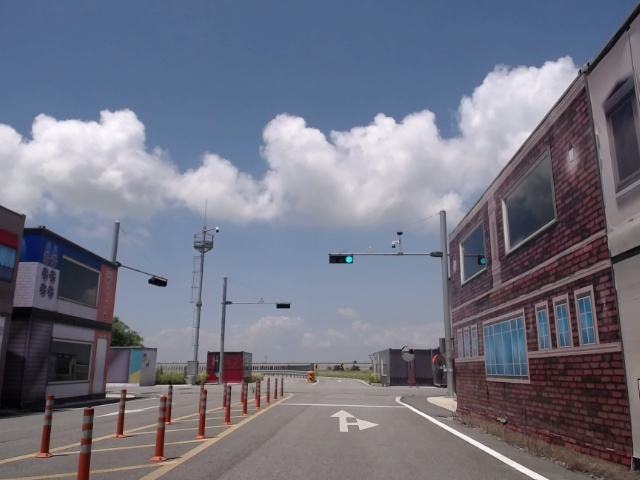green_3: (330, 256, 353, 264)
